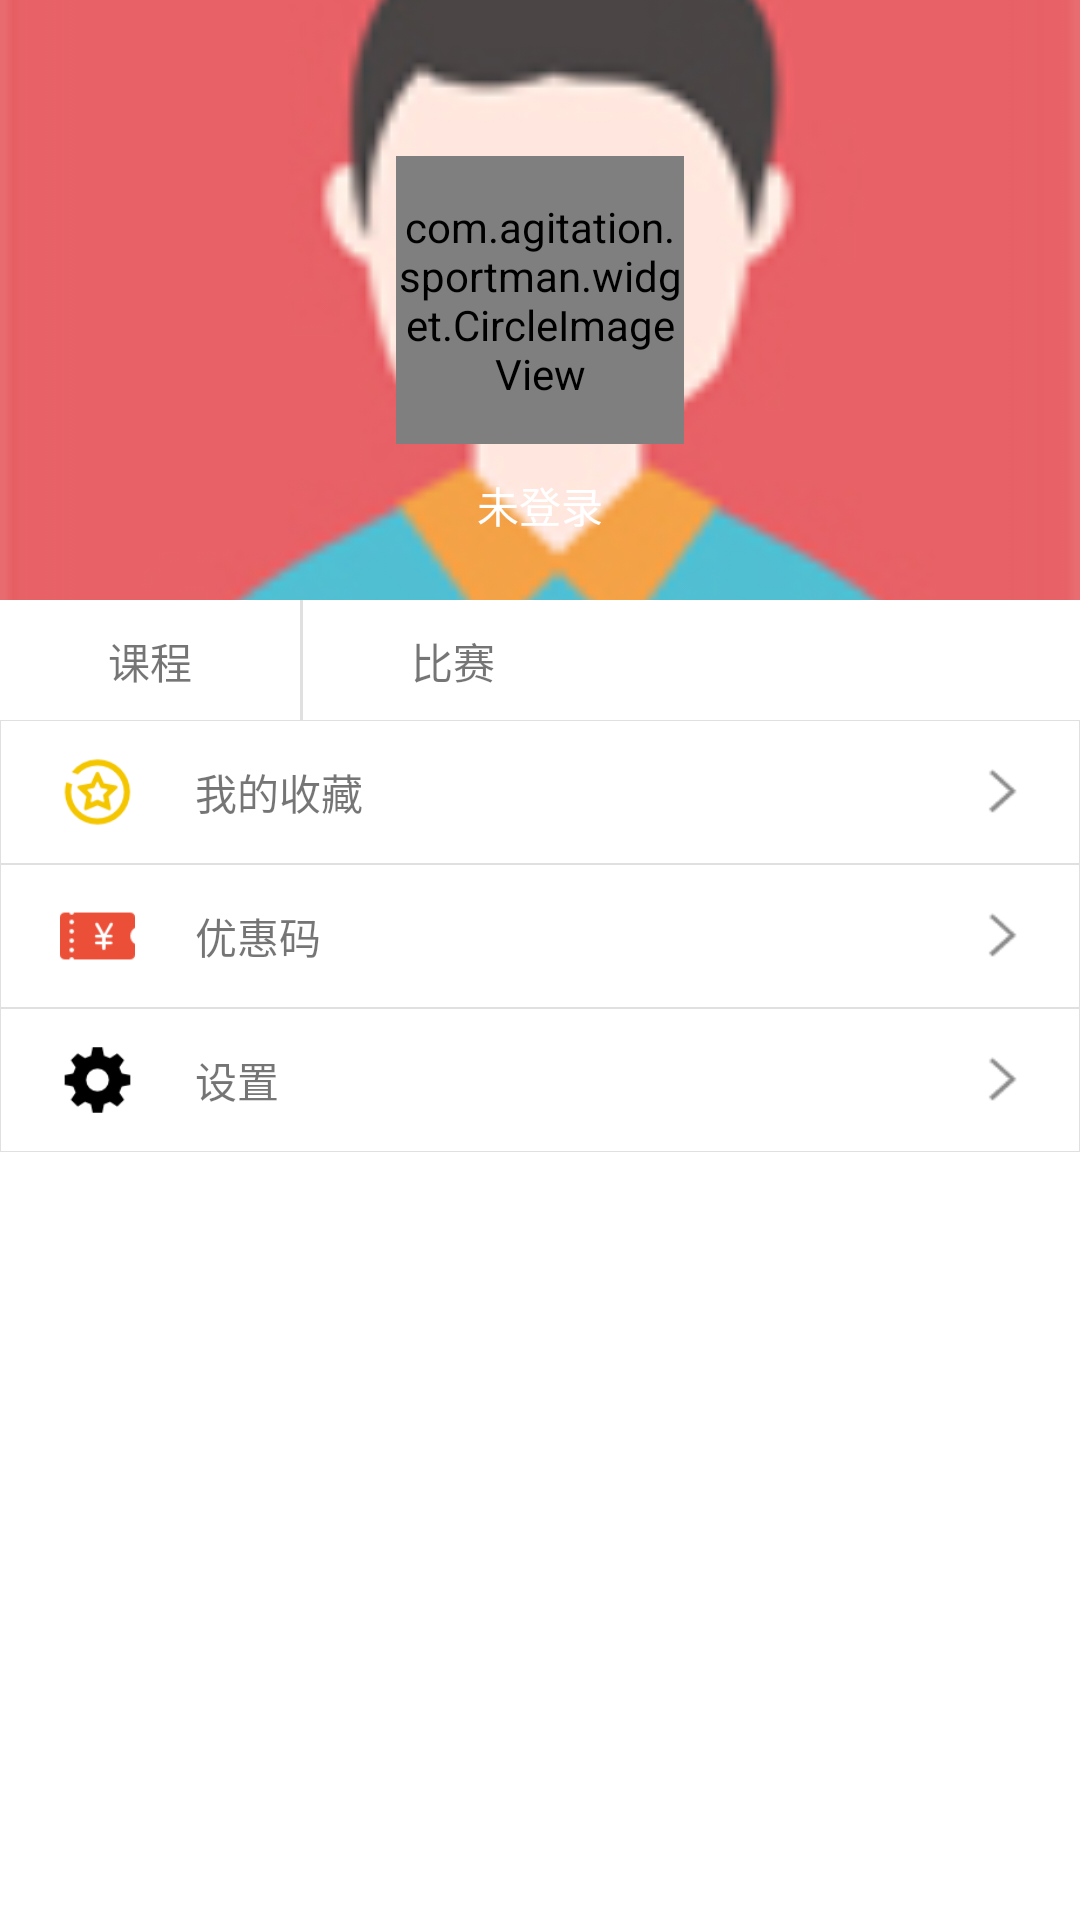

Screen size 1080px×1920px. Icon name, then its box in pixels as [left=x1, top=y1, right=x2, bottom=y2]:
collection: [left=64, top=759, right=131, bottom=825]
preferential code: [left=60, top=912, right=135, bottom=960]
right arrow: [left=989, top=770, right=1016, bottom=813], [left=989, top=914, right=1016, bottom=957], [left=989, top=1058, right=1016, bottom=1101]
setting: [left=64, top=1047, right=131, bottom=1113]
